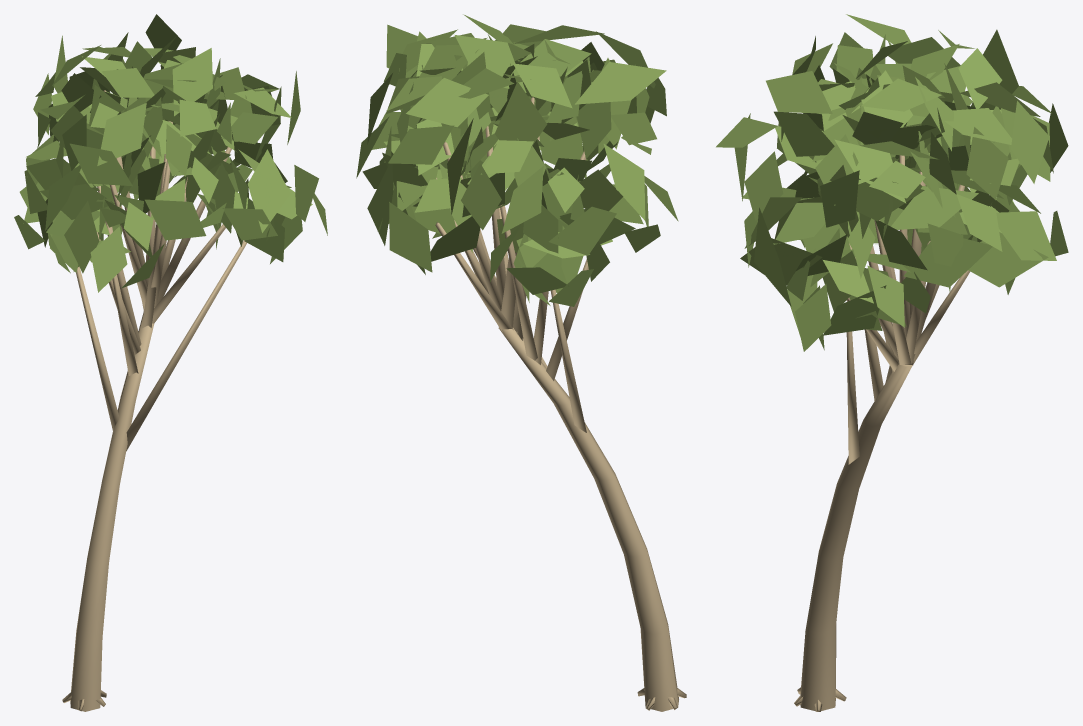
The model's file is birch-leaning-lod2.glb.
The picture shows the model from 3 angles, left to right: view 1: azimuth 30°, elevation 25°; view 2: azimuth 150°, elevation 25°; view 3: azimuth 270°, elevation 25°; orthographic projection. The views are drawn at different scales.
Parts seen in each view (by area): view 1: tree_birch-leaning_LOD2; view 2: tree_birch-leaning_LOD2; view 3: tree_birch-leaning_LOD2.
Boxes of the visible parts, box(x1,y1,x2,y2) form: tree_birch-leaning_LOD2: box(14, 14, 327, 711); tree_birch-leaning_LOD2: box(356, 14, 686, 711); tree_birch-leaning_LOD2: box(716, 14, 1068, 711).
Size of the model in its own units: 4.86 by 10.8 by 4.91.
